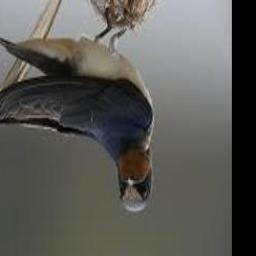Swallow: (0, 26, 155, 213)
